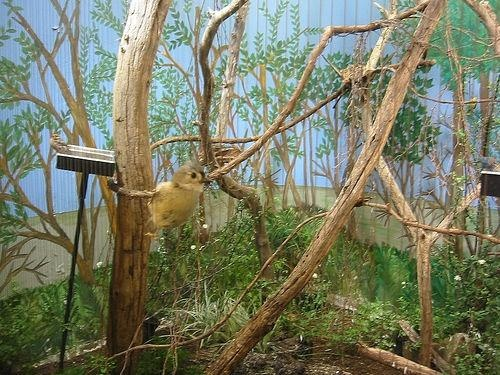bird: (150, 163, 210, 232)
